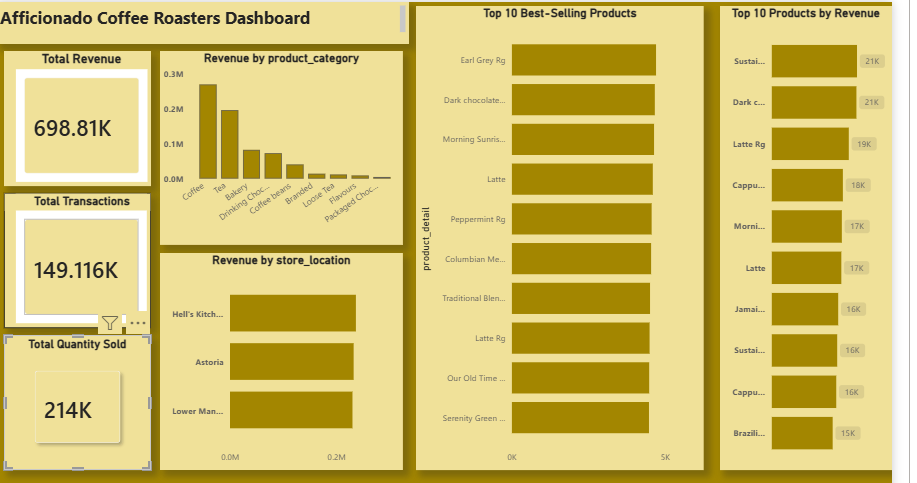

Layout of this report page (visuals, bound fields, positions):
{"tool":"powerbi","page":{"name":"Page 1","canvas":[1280,720],"ordinal":0},"visuals":[{"type":"textbox","box":[0,0,589.6,59.5],"z":0},{"type":"cardVisual","title":"Total Revenue","fields":{"Data":["Sum(coffee_cleaned_data.Revenue)"]},"box":[11.4,70,210,192.9],"z":1000},{"type":"cardVisual","title":"Total Transactions","fields":{"Data":["CountNonNull(coffee_cleaned_data.transaction_id)"]},"box":[11.4,272.9,210,192.9],"z":2000},{"type":"cardVisual","title":"Total Quantity Sold","fields":{"Data":["Sum(coffee_cleaned_data.transaction_qty)"]},"box":[11.4,475.7,210,192.9],"z":3000},{"type":"columnChart","title":" Revenue by product_category","fields":{"Category":["coffee_cleaned_data.product_category"],"Y":["Sum(coffee_cleaned_data.Revenue)"]},"box":[234.3,70,347.1,277.1],"z":4000},{"type":"clusteredBarChart","title":"Revenue by store_location","fields":{"Category":["coffee_cleaned_data.store_location"],"Y":["Sum(coffee_cleaned_data.Revenue)"]},"box":[234.3,358.6,347.1,310],"z":5000},{"type":"clusteredBarChart","title":"Top 10 Products by Revenue","fields":{"Category":["coffee_cleaned_data.product_detail"],"Y":["Sum(coffee_cleaned_data.Revenue)"]},"box":[1034.3,5.7,245.7,662.9],"z":6000},{"type":"clusteredBarChart","title":"Top 10 Best-Selling Products","fields":{"Category":["coffee_cleaned_data.product_detail"],"Y":["Sum(coffee_cleaned_data.transaction_qty)"]},"box":[600,5.7,411.4,662.9],"z":7000}]}

Visuals, with their boxes on the page's 1280x720 design canvas (x1, y1, x2, y2). These are canvas units, not pixel positions in the 917x483 screenshot, which may show the page scaled, cropped or inside an application window:
textbox: [left=0, top=0, right=590, bottom=60]
"Total Revenue" cardVisual: [left=11, top=70, right=221, bottom=263]
"Total Transactions" cardVisual: [left=11, top=273, right=221, bottom=466]
"Total Quantity Sold" cardVisual: [left=11, top=476, right=221, bottom=669]
" Revenue by product_category" columnChart: [left=234, top=70, right=581, bottom=347]
"Revenue by store_location" clusteredBarChart: [left=234, top=359, right=581, bottom=669]
"Top 10 Products by Revenue" clusteredBarChart: [left=1034, top=6, right=1280, bottom=669]
"Top 10 Best-Selling Products" clusteredBarChart: [left=600, top=6, right=1011, bottom=669]
